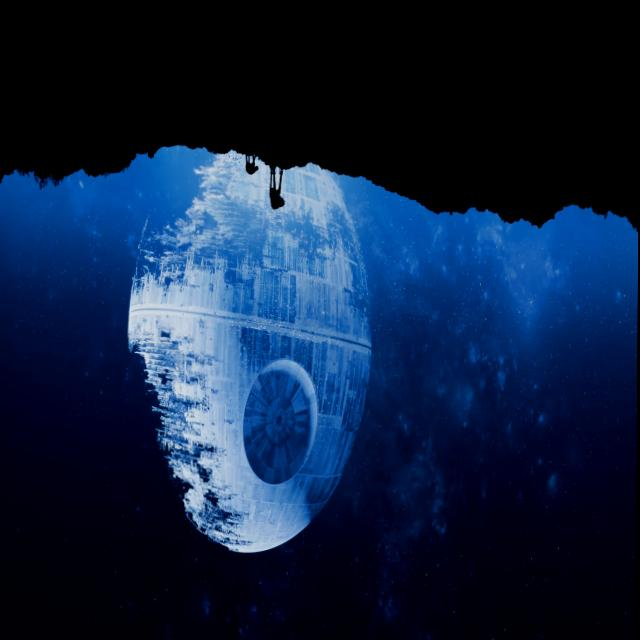deathStar: (127, 140, 375, 558)
